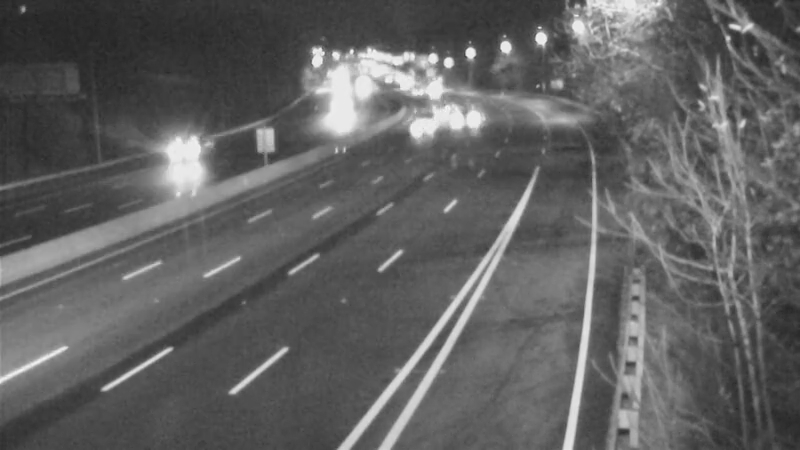vehicle: (151, 113, 231, 193), (420, 83, 470, 133), (416, 96, 466, 146), (437, 98, 487, 148), (399, 97, 449, 147), (313, 86, 363, 136)
